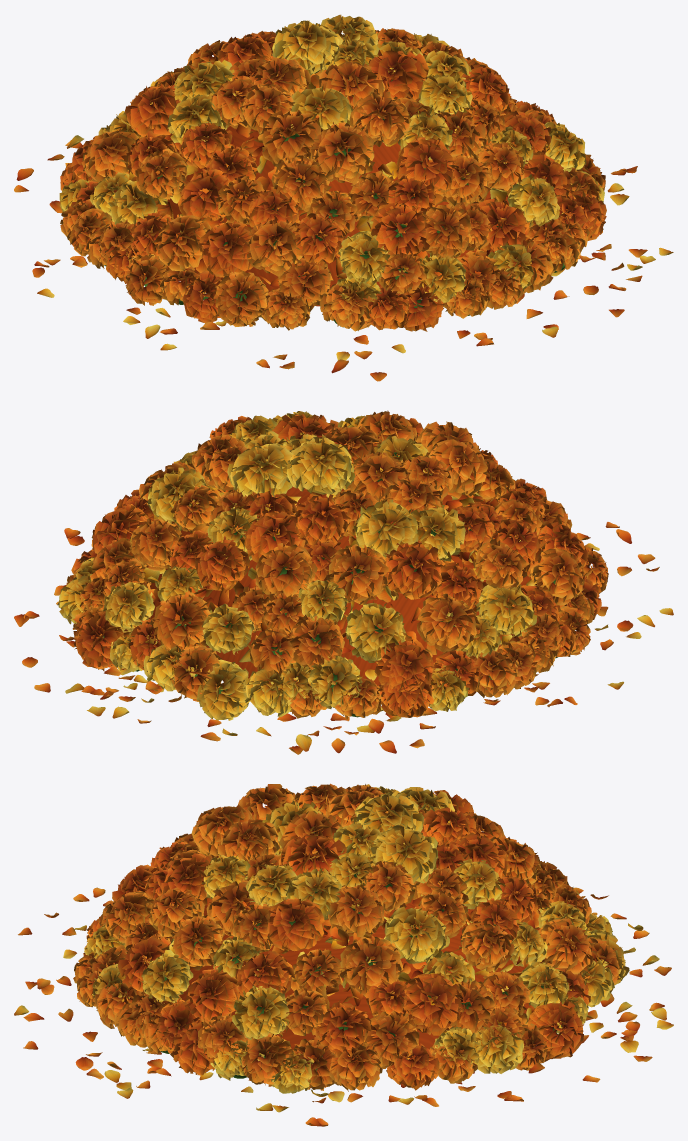
Rendered from w3_altar_marigoldpile.glb.
3 renders of one model, top to bottom at view 1: azimuth 30°, elevation 25°; view 2: azimuth 150°, elevation 25°; view 3: azimuth 270°, elevation 25°, orthographic.
Parts seen in each view (by area): view 1: w3_altar_marigoldpile; view 2: w3_altar_marigoldpile; view 3: w3_altar_marigoldpile.
Part boxes in pixels (box(x1,y1,x2,y2)): w3_altar_marigoldpile: box(14, 14, 673, 381); w3_altar_marigoldpile: box(14, 410, 673, 754); w3_altar_marigoldpile: box(14, 783, 673, 1126).
Size of the model in its own units: 0.8144 by 0.2629 by 0.8091.
2 materials, 2 textured.
